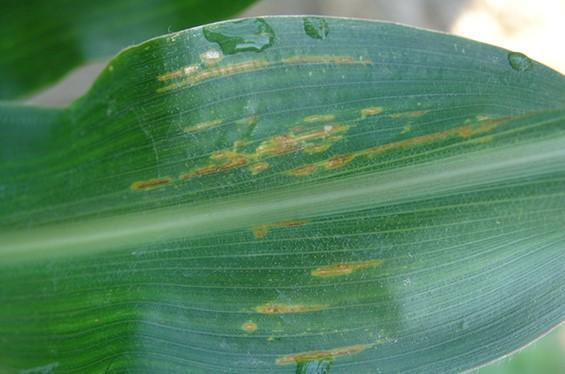Corn_Blight: (109, 122, 508, 195), (146, 50, 384, 94), (218, 275, 330, 337), (255, 347, 404, 368), (227, 214, 342, 240), (308, 255, 386, 274)
